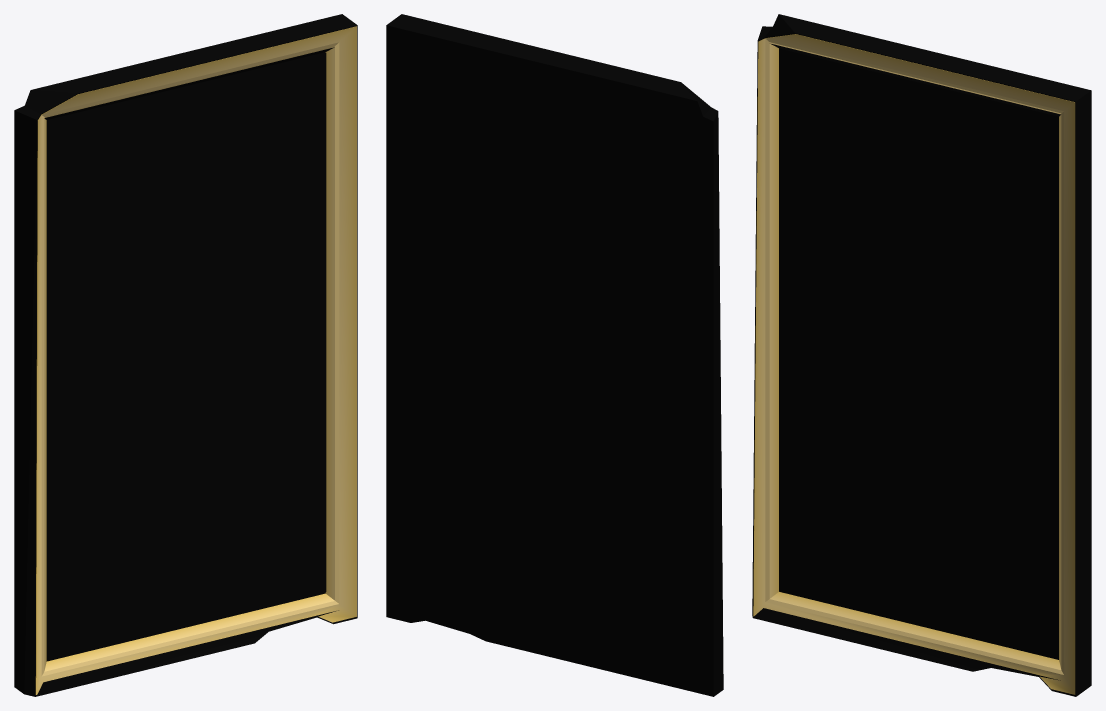
The model's file is Rooms_Paradise_NFTFrame_Vertical_Art.fbx.
3 views of the same model, side by side, from view 1: azimuth 30°, elevation 25°; view 2: azimuth 150°, elevation 25°; view 3: azimuth 330°, elevation 25° (orthographic).
Visible parts, largest first — view 1: Rooms_Paradise_NFTFrame_Vertical_Outline, Rooms_Paradise_NFTFrame_Vertical_Art, Rooms_Paradise_NFTFrame_Vertical_Shadows; view 2: Rooms_Paradise_NFTFrame_Vertical_Outline; view 3: Rooms_Paradise_NFTFrame_Vertical_Outline, Rooms_Paradise_NFTFrame_Vertical_Art, Rooms_Paradise_NFTFrame_Vertical_Shadows.
Part boxes in pixels (bbox=[...]): Rooms_Paradise_NFTFrame_Vertical_Outline: bbox=[14, 14, 357, 696]; Rooms_Paradise_NFTFrame_Vertical_Art: bbox=[35, 26, 356, 694]; Rooms_Paradise_NFTFrame_Vertical_Shadows: bbox=[36, 47, 338, 695]; Rooms_Paradise_NFTFrame_Vertical_Outline: bbox=[386, 14, 723, 696]; Rooms_Paradise_NFTFrame_Vertical_Outline: bbox=[752, 14, 1091, 696]; Rooms_Paradise_NFTFrame_Vertical_Art: bbox=[753, 34, 1075, 694]; Rooms_Paradise_NFTFrame_Vertical_Shadows: bbox=[753, 43, 1060, 680].
Bounding box in the file's own units: 262 × 453 × 22.07.
